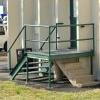stairs: (59, 56, 100, 90), (12, 53, 58, 83)
